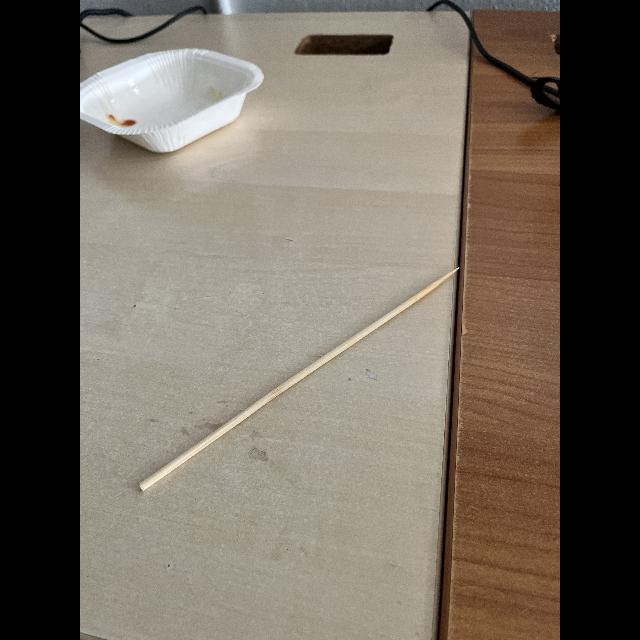cardboard_bowl: (84, 31, 270, 181)
stick: (128, 251, 466, 509)
